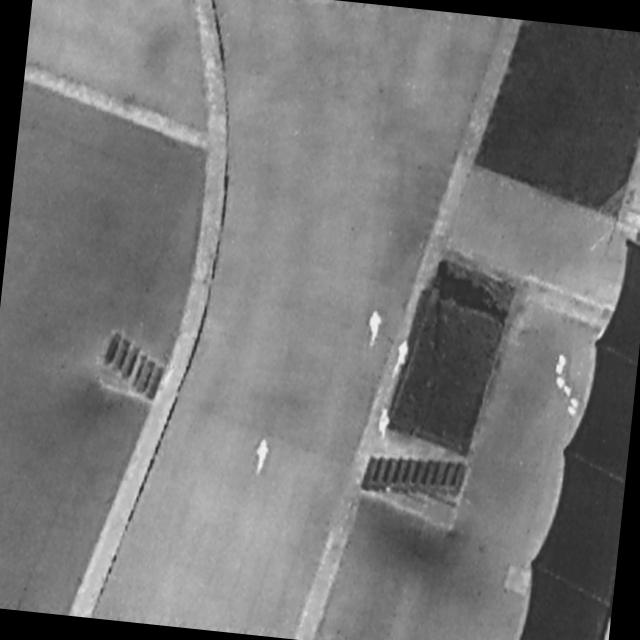person: (392, 336, 413, 374), (367, 308, 383, 350), (375, 406, 393, 441), (253, 438, 270, 475)
